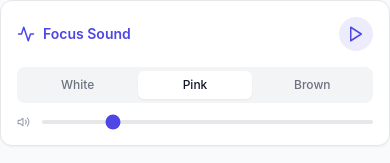
NoisePlayer Component › should start playing noise when the play button is clicked
Click the button named "Play". click: point(356, 34)
box: x1=339 y1=17 x2=373 y2=51
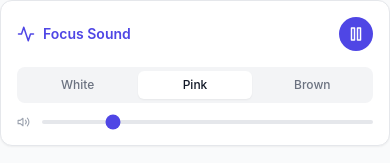
Check: the button named "Pause" is shown, box x1=339 y1=17 x2=373 y2=51
